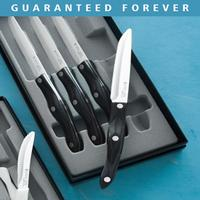knife: (6, 12, 143, 193), (105, 27, 135, 195), (13, 127, 38, 200)
